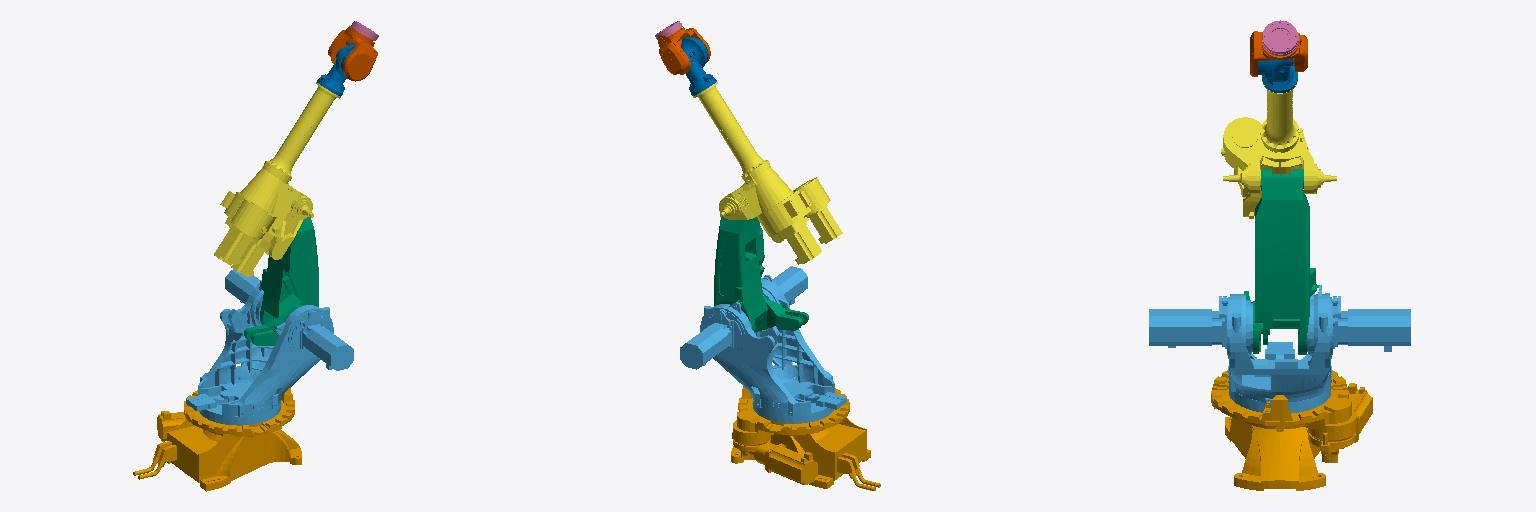
The robot description file, URDF, robot "Comau SMART NJ 500-2.7":
<?xml version="1.0" ?>
<robot name="Comau SMART NJ 500-2.7">
    <!-- Properties -->
    <material name="gray">
        <color rgba="0.4 0.4 0.4 1" />
    </material>
    <material name="comau_red">
        <color rgba="0.84 0 0 1" />
    </material>
    <!-- link list -->
    <link name="base_link">
        <visual>
            <geometry>
                <mesh filename="visual/base_link.stl" material_name="gray"/>
            </geometry>
        </visual>
    </link>
    <link name="link1">
        <visual>
            <geometry>
                <mesh filename="visual/link_1.stl" material_name="comau_red"/>
            </geometry>
        </visual>
    </link>
    <link name="link2">
        <visual>
            <geometry>
                <mesh filename="visual/link_2.stl" material_name="comau_red"/>
            </geometry>
        </visual>
    </link>
    <link name="link3">
        <visual>
            <geometry>
                <mesh filename="visual/link_3.stl" material_name="comau_red"/>
            </geometry>
        </visual>
    </link>
    <link name="link4">
        <visual>
            <geometry>
                <mesh filename="visual/link_4.stl" material_name="comau_red"/>
            </geometry>
        </visual>
    </link>
    <link name="link5">
        <visual>
            <geometry>
                <mesh filename="visual/link_5.stl" material_name="comau_red"/>
            </geometry>
        </visual>
    </link>
    <link name="link6">
        <visual>
            <geometry>
                <mesh filename="visual/link_6.stl" material_name="comau_red"/>
            </geometry>
        </visual>
    </link>
    <link name="ee_link"/>
    <!-- end of link list -->
    <!-- joint list -->
    <joint name="joint1" type="revolute">
        <parent link="base_link"/>
        <child link="link1"/>
        <origin xyz="0 0 0" rpy="0 0 0" />
        <axis xyz="0 0 -1" />
        <limit lower="-180" upper="180" velocity="45"/>
    </joint>
    <joint name="joint2" type="revolute">
        <parent link="link1"/>
        <child link="link2"/>
        <origin xyz="0.46 0 1.14" rpy="0 0 0" />
        <axis xyz="0 1 0" />
        <limit lower="-60" upper="75" velocity="45"/>
    </joint>
    <joint name="joint3" type="revolute">
        <parent link="link2"/>
        <child link="link3"/>
        <origin xyz="0 0 1.05" rpy="0 -90 0" />
        <axis xyz="0 -1 0" />
        <limit lower="-231" upper="-10" velocity="45"/>
    </joint>
    <joint name="joint4" type="revolute">
        <parent link="link3"/>
        <child link="link4"/>
        <origin xyz="1.205 0 0.25" rpy="0 0 0" />
        <axis xyz="-1 0 0" />
        <limit lower="-2700" upper="2700" velocity="90"/>
    </joint>
    <joint name="joint5" type="revolute">
        <parent link="link4"/>
        <child link="link5"/>
        <origin xyz="0 0 0" rpy="0 0 0" />
        <axis xyz="0 1 0" />
        <limit lower="-125" upper="125" velocity="83"/>
    </joint>
    <joint name="joint6" type="revolute">
        <parent link="link5"/>
        <child link="link6"/>
        <origin xyz="0 0 0" rpy="0 0 0" />
        <axis xyz="-1 0 0" />
        <limit lower="-2700" upper="2700" velocity="130"/>
    </joint>
    <joint name="joint_6_t-tool0" type="fixed">
        <origin xyz="0.282 0 0" rpy="0 90 0"/>
        <parent link="link6"/>
        <child link="ee_link"/>
    </joint>
    <!-- end of joint list -->
    <!-- <tcp xyz="0 0 0" rpy="0 0 0"/> -->
    <tcp xyz="-0.001761239 0.000556 0.636682762" rpy="0 0 0"/>

    <!-- home positions  -->
    <home_positions joints="0 0 -90 0 90 0" />

    <!-- Ortho-parallel Basis and a Spherical Wrist -->
    <opw_parameters>
        <c1>1.14</c1>
        <c2>1.05</c2>
        <c3>1.205</c3>
        <c4>0.282</c4>
        <a1>0.46</a1>
        <a2>-0.25</a2>
        <b>0</b>
        <joint1 sign_correction="-1" offset="0"/>
        <joint2 sign_correction="1" offset="0"/>
        <joint3 sign_correction="-1" offset="0"/>
        <joint4 sign_correction="-1" offset="0"/>
        <joint5 sign_correction="1" offset="0"/>
        <joint6 sign_correction="-1" offset="0"/>
    </opw_parameters>
</robot>

--- What the picture shows (computed from the rendered views, not written in the file) ---
3 views of the same robot in one strip: view 1: azimuth 30°, elevation 25°; view 2: azimuth 150°, elevation 25°; view 3: azimuth 270°, elevation 25° (orthographic).
Model Comau SMART NJ 500-2.7 with 8 links and 7 joints (6 revolute, 1 fixed), rooted at base_link, posed joints at zero except 1 at the middle of their limits (joint3 = -120).
Links seen in each view (by area): view 1: link1, link3, base_link, link2, link5, link4; view 2: link1, base_link, link3, link2, link5, link4; view 3: link1, base_link, link2, link3, link5, link4, link6.
Boxes of the visible links, x1,y1,x2,y2 form: link1: (186, 269, 353, 424); link3: (214, 82, 340, 277); base_link: (133, 387, 301, 491); link2: (244, 217, 318, 345); link5: (328, 26, 377, 81); link4: (317, 44, 355, 96); link1: (680, 266, 846, 423); base_link: (731, 386, 880, 490); link3: (693, 82, 842, 264); link2: (714, 216, 808, 332); link5: (658, 27, 710, 74); link4: (681, 37, 716, 95); link1: (1149, 285, 1410, 412); base_link: (1211, 370, 1372, 490); link2: (1244, 169, 1318, 354); link3: (1221, 81, 1336, 218); link5: (1250, 31, 1307, 76); link4: (1258, 58, 1297, 92); link6: (1262, 20, 1298, 55).
Bounding box of the posed robot: 2.11 × 1.67 × 3.59 m (x, y, z).
7 mesh visuals loaded from 7 distinct referenced files (7 binary STL).